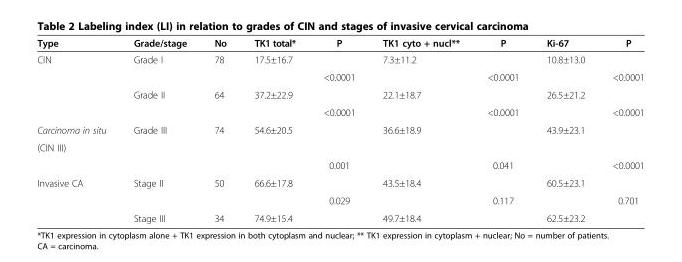table: (36, 36, 643, 223)
table column: (368, 36, 472, 223), (36, 36, 119, 223), (119, 36, 199, 223), (239, 36, 308, 223), (532, 36, 598, 223), (308, 36, 368, 223), (472, 36, 532, 223), (598, 36, 643, 223), (199, 36, 239, 223)
table column header: (36, 36, 643, 50)
table row: (36, 67, 643, 85), (36, 85, 643, 103), (36, 120, 643, 138), (36, 138, 643, 156), (36, 173, 643, 191), (36, 191, 643, 209), (36, 50, 643, 67), (36, 103, 643, 120), (36, 156, 643, 173), (36, 36, 643, 50), (36, 209, 643, 223)
table spanning cell: (36, 50, 119, 120), (36, 173, 119, 223), (368, 120, 472, 156), (36, 138, 119, 173), (119, 120, 199, 156), (239, 120, 308, 156), (532, 120, 598, 156), (199, 120, 239, 156)
